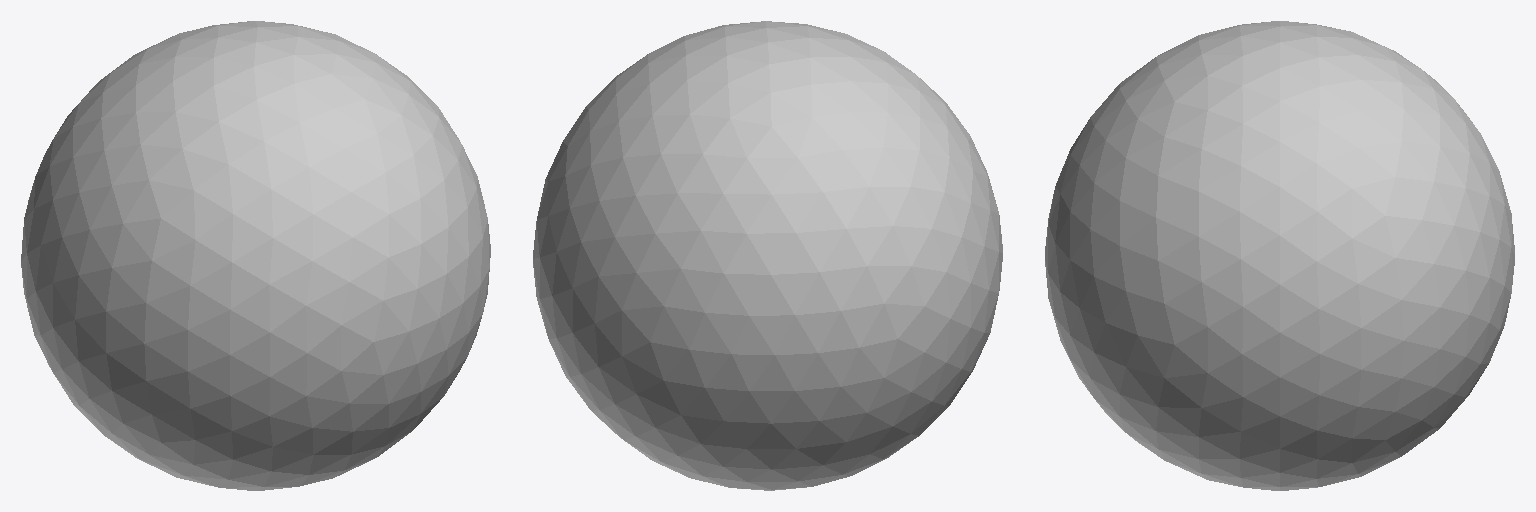
The picture shows the model from 3 angles: view 1: azimuth 30°, elevation 25°; view 2: azimuth 150°, elevation 25°; view 3: azimuth 270°, elevation 25°; orthographic projection.
Parts seen in each view (by area): view 1: GeoSphere001; view 2: GeoSphere001; view 3: GeoSphere001.
Part boxes in pixels (left/top/right/bottom): GeoSphere001: left=21, top=21, right=490, bottom=490; GeoSphere001: left=533, top=21, right=1002, bottom=490; GeoSphere001: left=1045, top=21, right=1514, bottom=490.
Bounding box in the file's own units: 19.89 × 20 × 20.